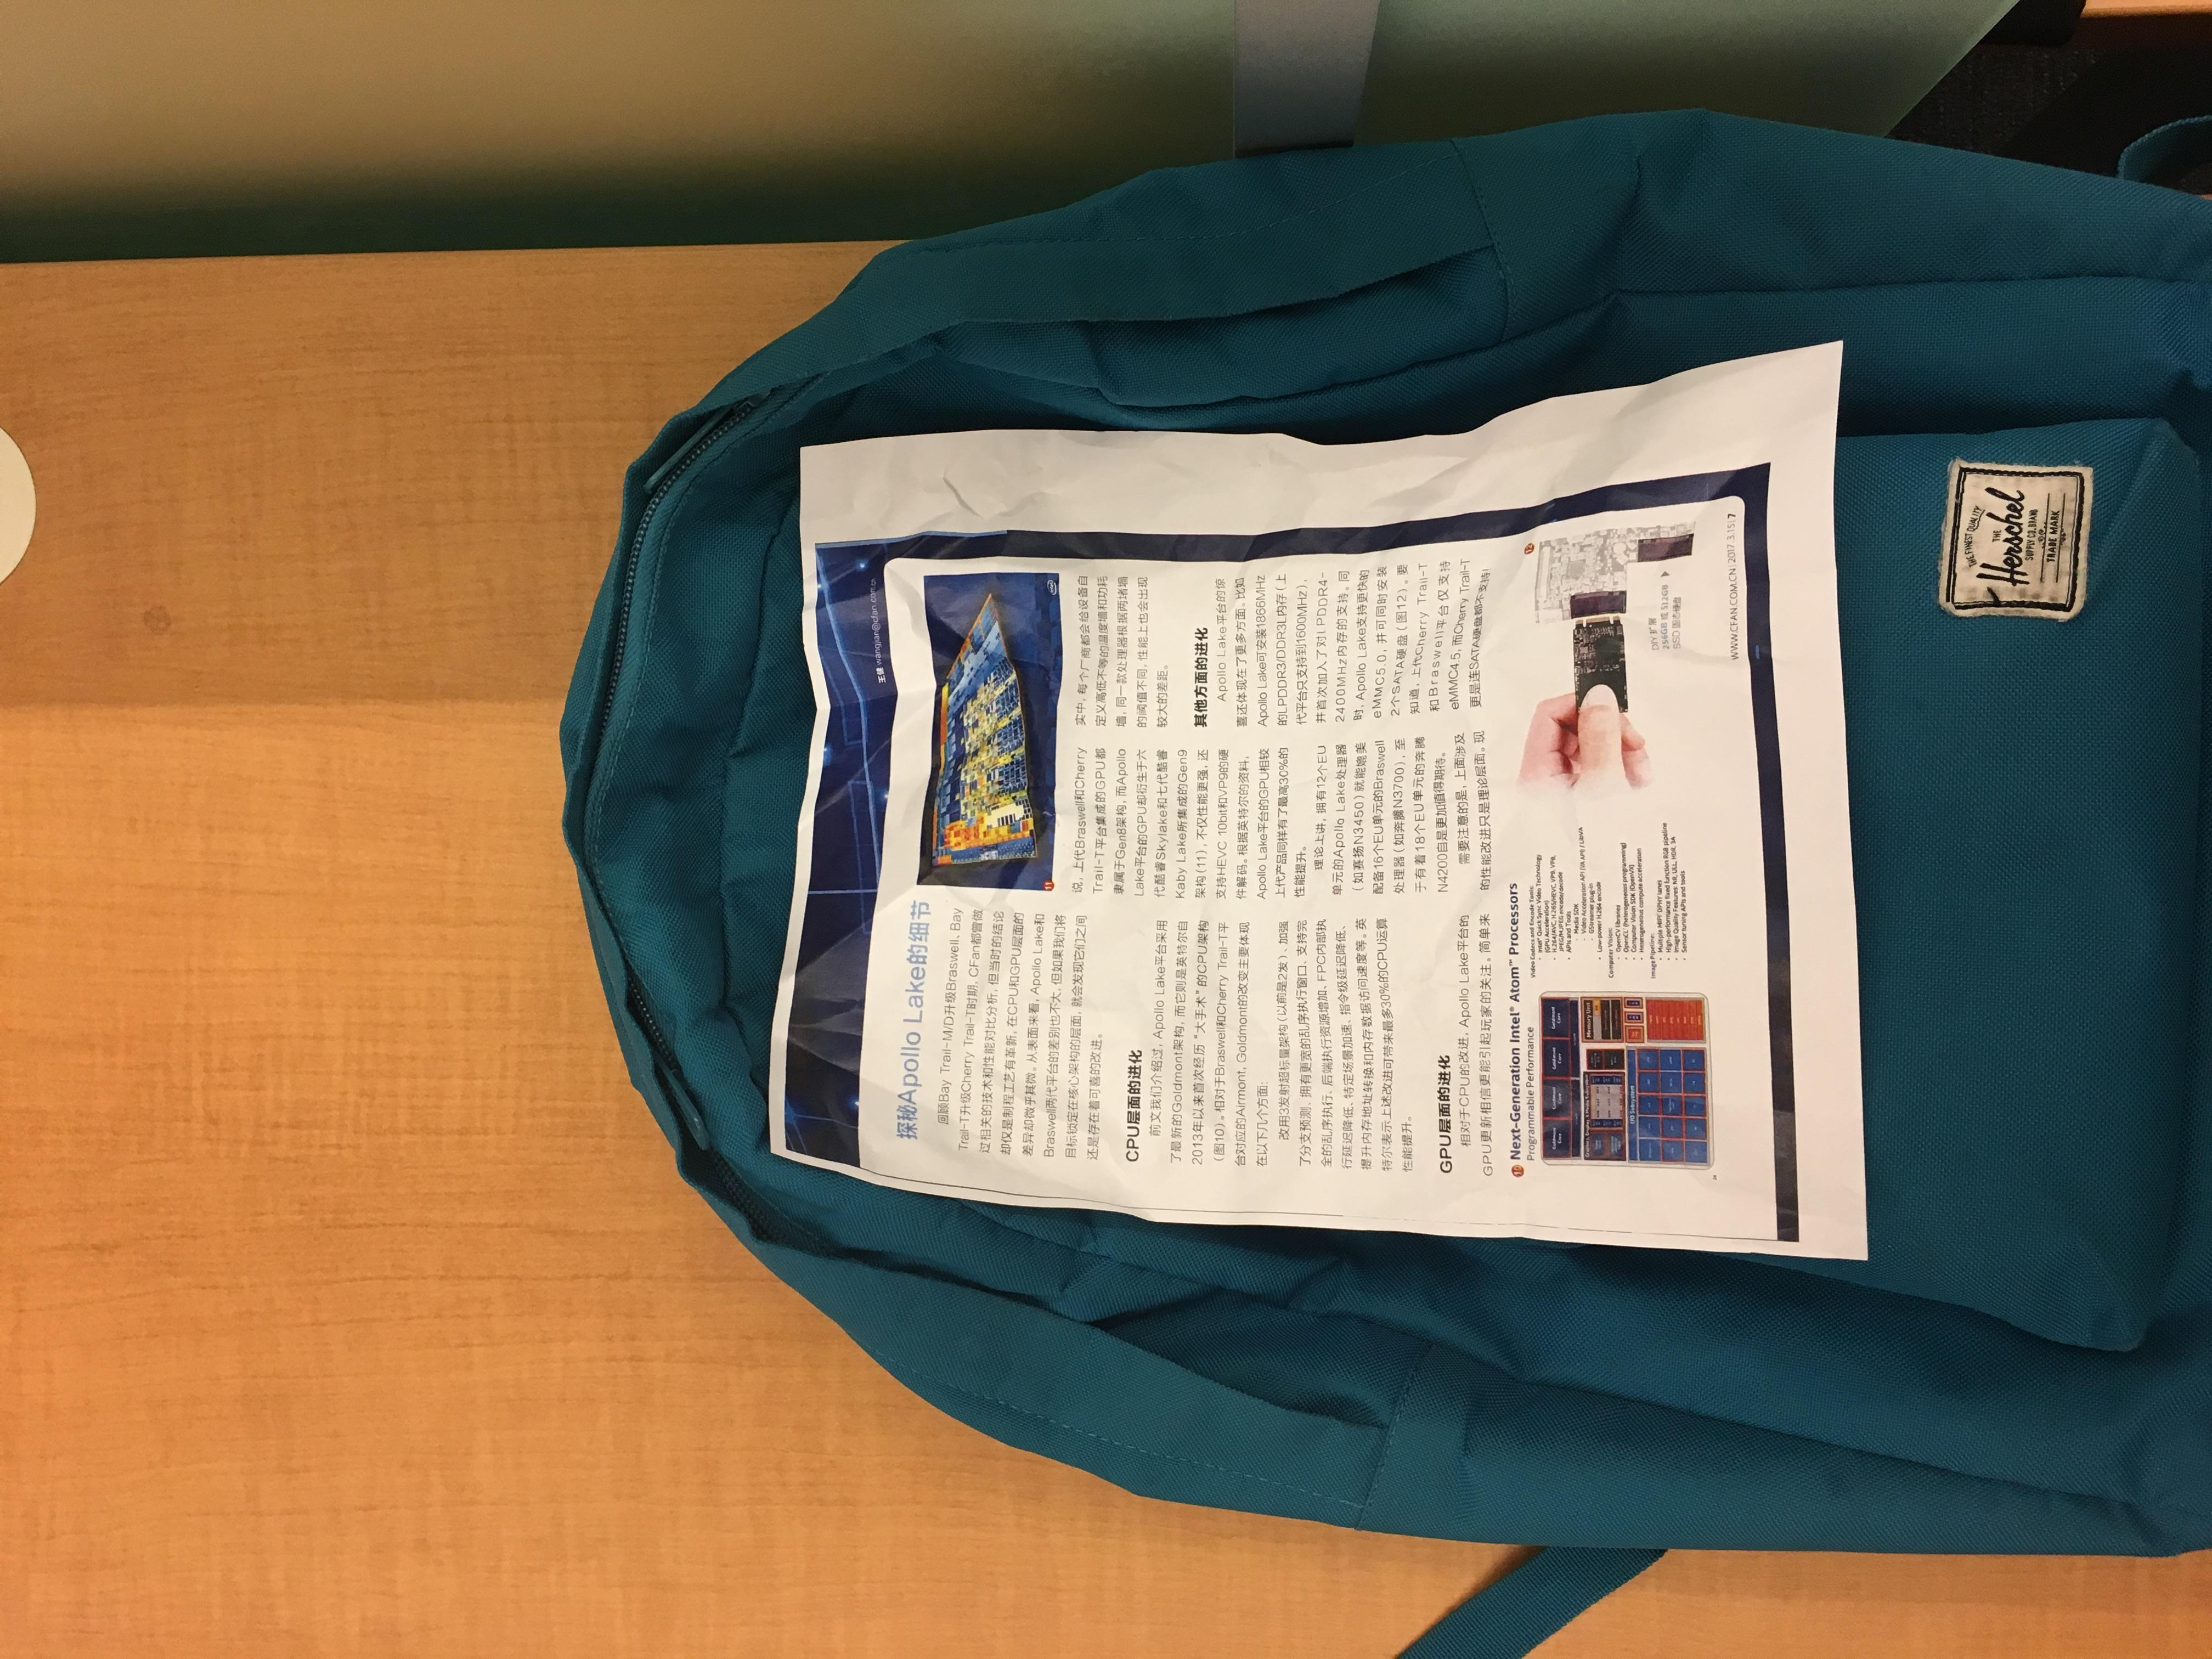paper: (486, 502, 1975, 1532)
